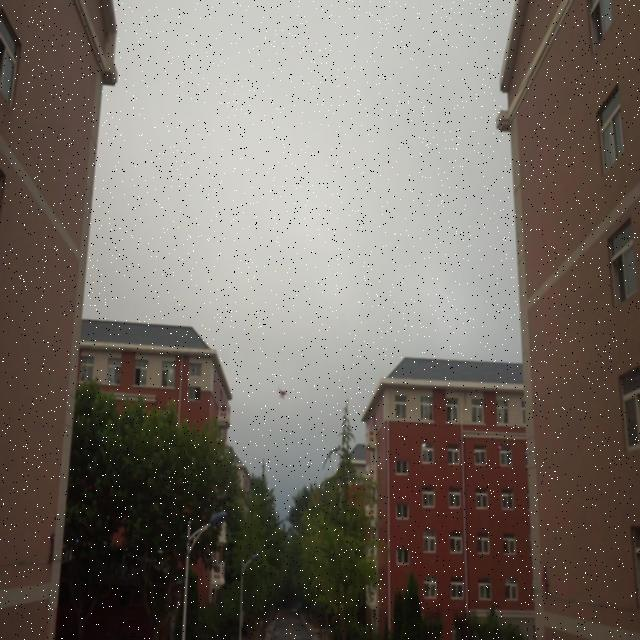UAV: (278, 388, 288, 400)
